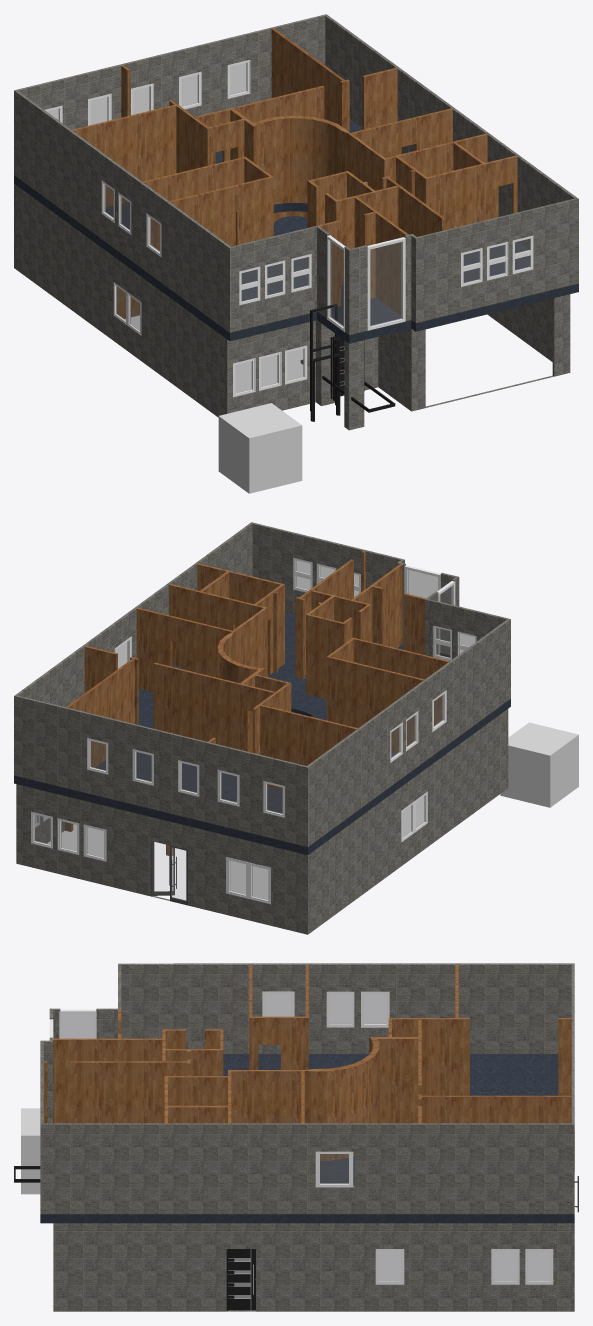
The model's file is house_game.glb.
3 views of the same model, one above another, from view 1: azimuth 30°, elevation 25°; view 2: azimuth 150°, elevation 25°; view 3: azimuth 270°, elevation 25° (orthographic). The views are drawn at different scales.
Visible parts, largest first — view 1: G-Object.002, G-Object.003, G-Object.004, G-Object.005, Cube, G-Object.024, G-Object.025, G-Object.033, G-Object.013, G-Object.008, G-Object.009, G-Object.007 (+10 smaller); view 2: G-Object.002, G-Object.003, G-Object.004, G-Object.005, Cube, G-Object.034, G-Object.024, G-Object.033, G-Object.012, G-Object.011, G-Object.016, G-Object.010 (+9 smaller); view 3: G-Object.002, G-Object.004, G-Object.003, G-Object.005, Door_Interior_02, Cube, G-Object.032, G-Object.025, G-Object.026, G-Object.030, G-Object.029, G-Object.027 (+2 smaller).
Part boxes in pixels (x1,y1,x2,y2): G-Object.002: (14, 14, 578, 335); G-Object.003: (72, 28, 517, 315); G-Object.004: (14, 183, 570, 430); G-Object.005: (14, 118, 578, 343); Cube: (218, 403, 302, 493); G-Object.024: (367, 237, 405, 330); G-Object.025: (327, 235, 345, 332); G-Object.033: (113, 282, 141, 335); G-Object.013: (227, 60, 250, 98); G-Object.008: (259, 351, 281, 390); G-Object.009: (285, 345, 307, 384); G-Object.007: (233, 358, 255, 397); G-Object.002: (14, 522, 510, 847); G-Object.003: (66, 551, 449, 802); G-Object.004: (16, 709, 508, 934); G-Object.005: (14, 611, 510, 854); Cube: (500, 722, 578, 807); G-Object.034: (226, 857, 270, 904); G-Object.024: (404, 565, 440, 652); G-Object.033: (401, 791, 427, 842); G-Object.012: (83, 824, 106, 861); G-Object.011: (57, 818, 79, 854); G-Object.016: (217, 769, 239, 806); G-Object.010: (31, 811, 52, 848); G-Object.002: (40, 963, 574, 1214); G-Object.004: (53, 1223, 574, 1311); G-Object.003: (43, 965, 571, 1160); G-Object.005: (40, 1054, 574, 1223); Door_Interior_02: (228, 1249, 255, 1310); Cube: (21, 1108, 40, 1194); G-Object.032: (315, 1151, 353, 1187); G-Object.025: (59, 1009, 96, 1038); G-Object.026: (375, 1249, 404, 1284); G-Object.030: (326, 991, 354, 1027); G-Object.029: (361, 991, 389, 1027); G-Object.027: (491, 1249, 519, 1284).
Bounding box in the file's own units: 12.78 × 7.4 × 17.44.
18 materials, 7 textured.
